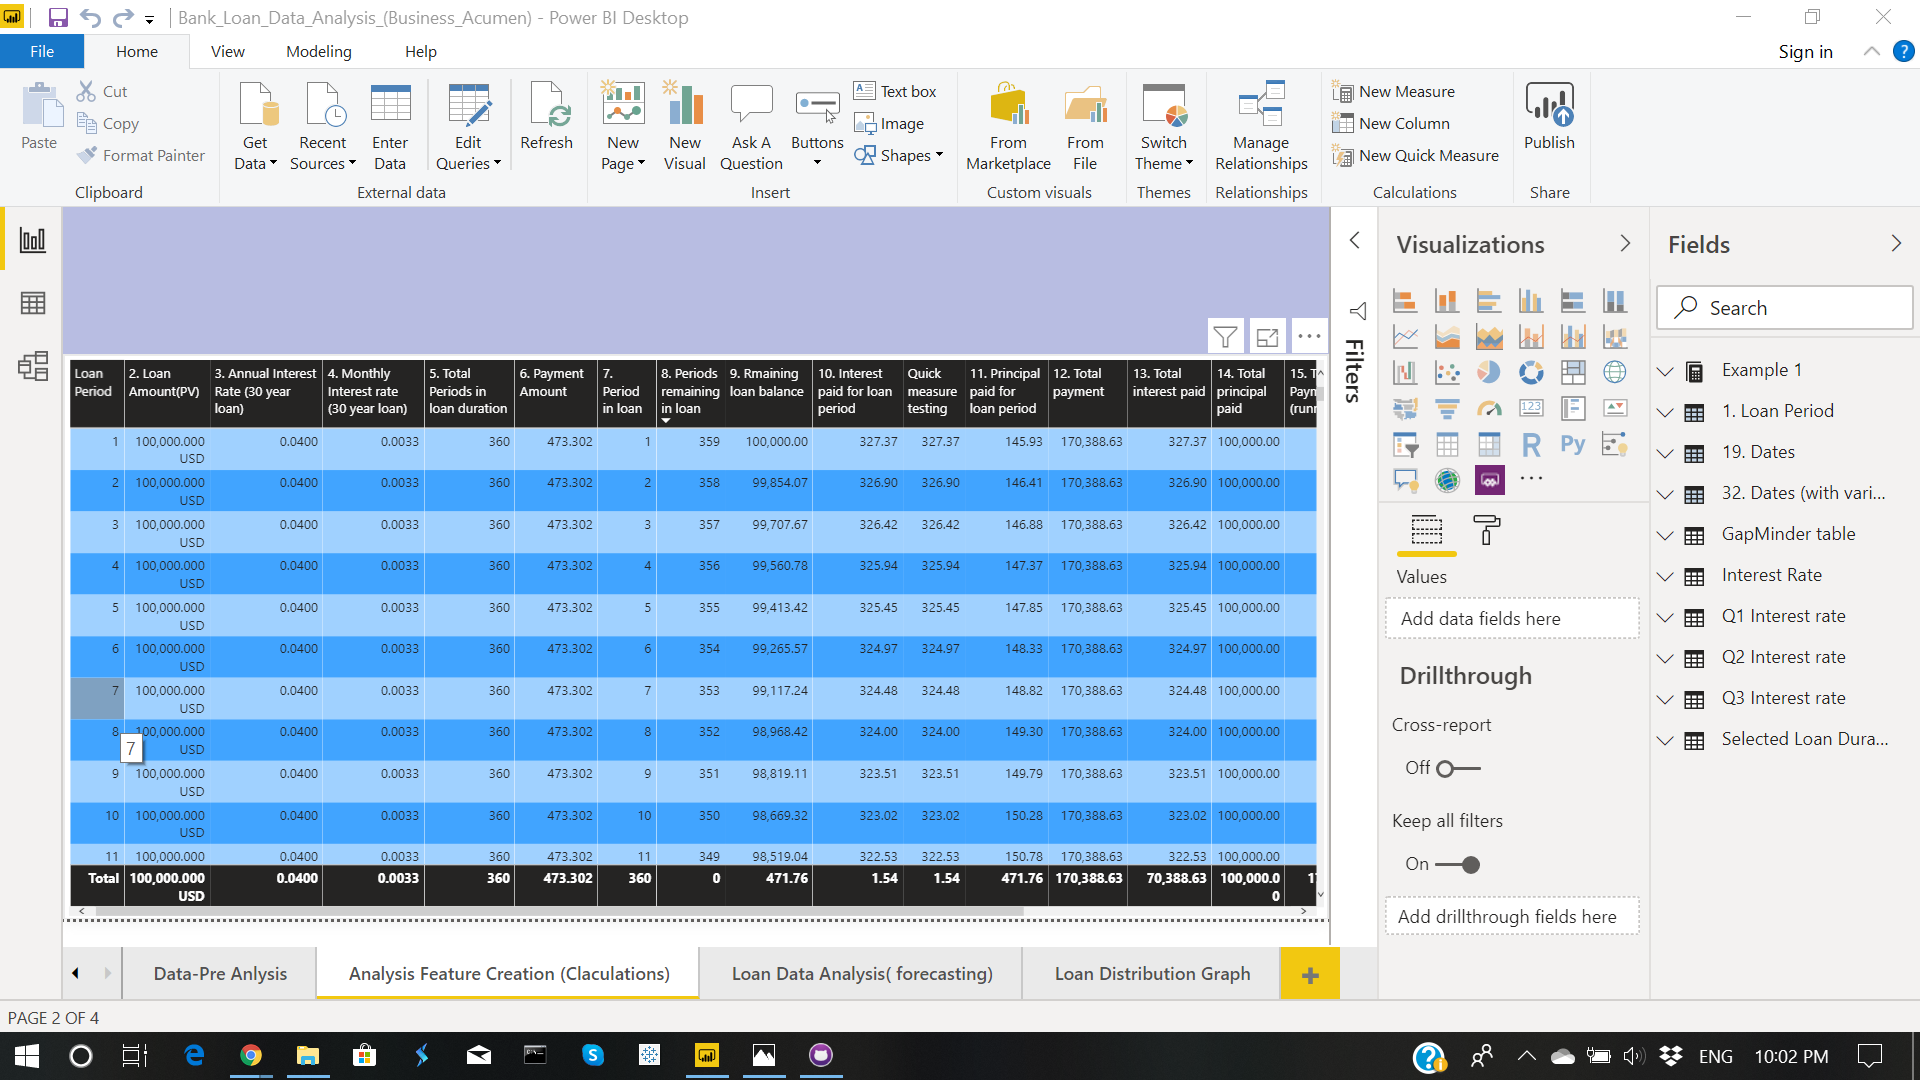

What the dashboard file says about the page in this screenshot:
{"tool":"powerbi","page":{"name":"Analysis Feature Creation (Claculations)","canvas":[1280,720],"ordinal":1},"visuals":[{"type":"tableEx","fields":{"Values":["1. Loan Period.Loan Period","1. Loan Period.2. Loan Amount(PV)","1. Loan Period.3. Annual Interest Rate (30 uear loan)","1. Loan Period.4. Monthly Interest rate (30 year loan)","1. Loan Period.5. Total Periods in loan duration","1. Loan Period.6. Payment Amount","1. Loan Period.7. Period in loan","1. Loan Period.8. Periods remaining in loan","1. Loan Period.9. Rmaining loan balance","1. Loan Period.10. Interest paid for loan period","1. Loan Period.Quick measure testing","1. Loan Period.11. Principal paid for loan period"]},"box":[0,148.6,1280,571.8],"z":0}]}

Visuals, with their boxes on the page's 1280x720 design canvas (x1, y1, x2, y2). These are canvas units, not pixel positions in the 1920x1080 screenshot, which may show the page scaled, cropped or inside an application window:
tableEx - 1. Loan Period.Loan Period x 1. Loan Period.2. Loan Amount(PV): box(0, 149, 1280, 720)
